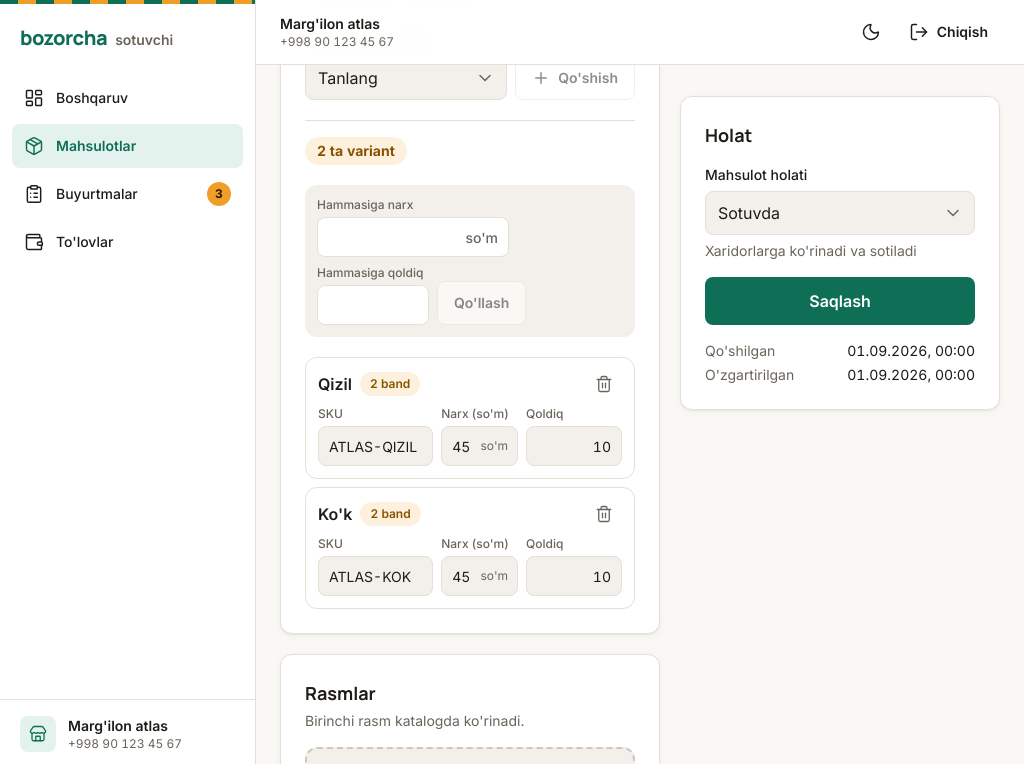
Test: ProductEditorPage: saving › explains that the last active variant of a product on sale cannot be switched off
(page scrolled)
What coordinates should you click on to do the following:
click the button named "Olib tashlash: Qizil"
I would click on:
 (604, 384)
Its box is [586,366,622,402].
(page scrolled)
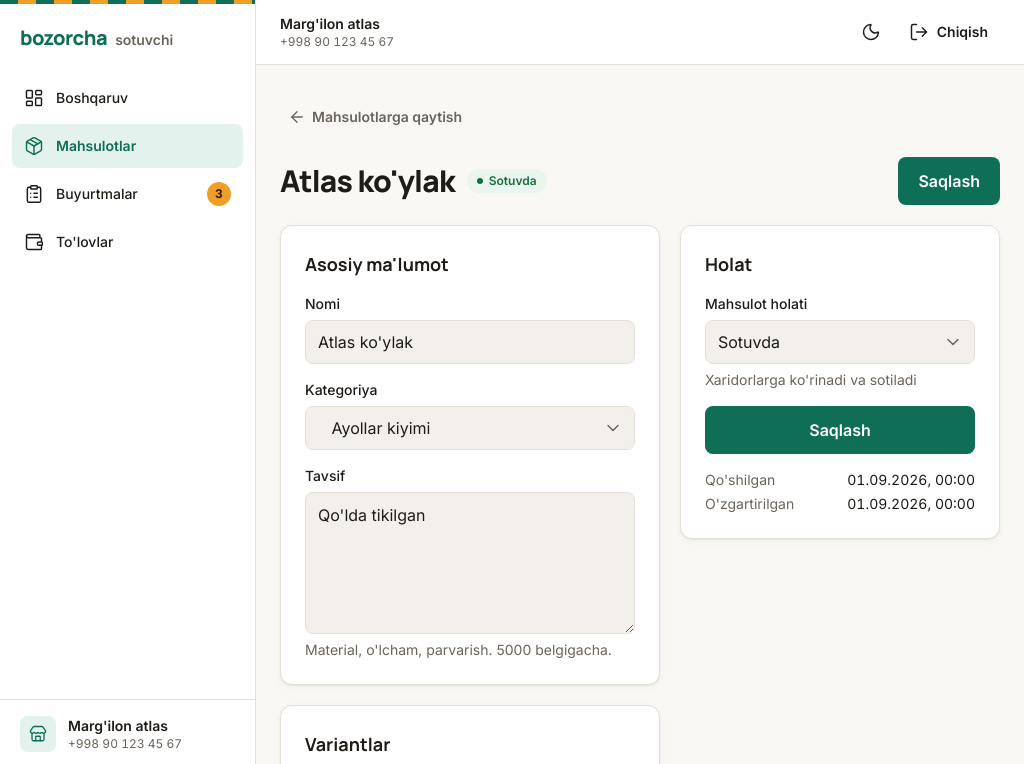
What coordinates should you click on to do the following:
click the button "Saqlash" in the row of "Sotuvda"
I would click on:
 (949, 181)
Its box is [898,157,1000,205].
(page scrolled)
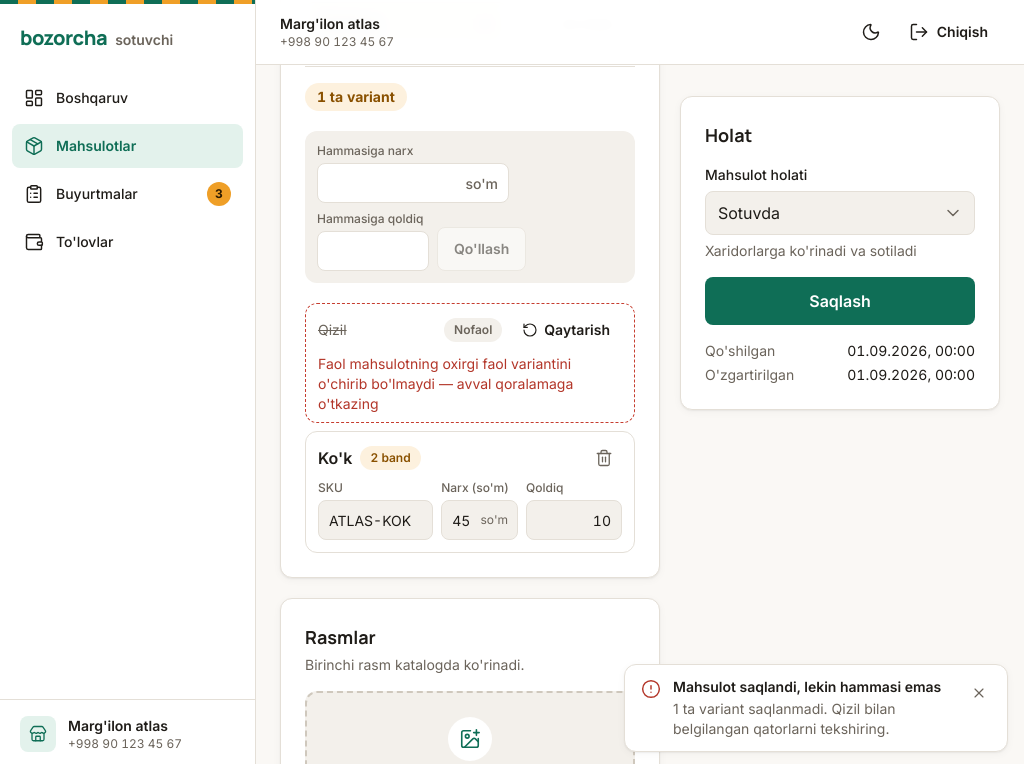
expect the text "Faol mahsulotning oxirgi faol variantini o'chirib bo'lmaydi — avval qoralamaga o'tkazing" is shown: met, box [318,355,573,412]
